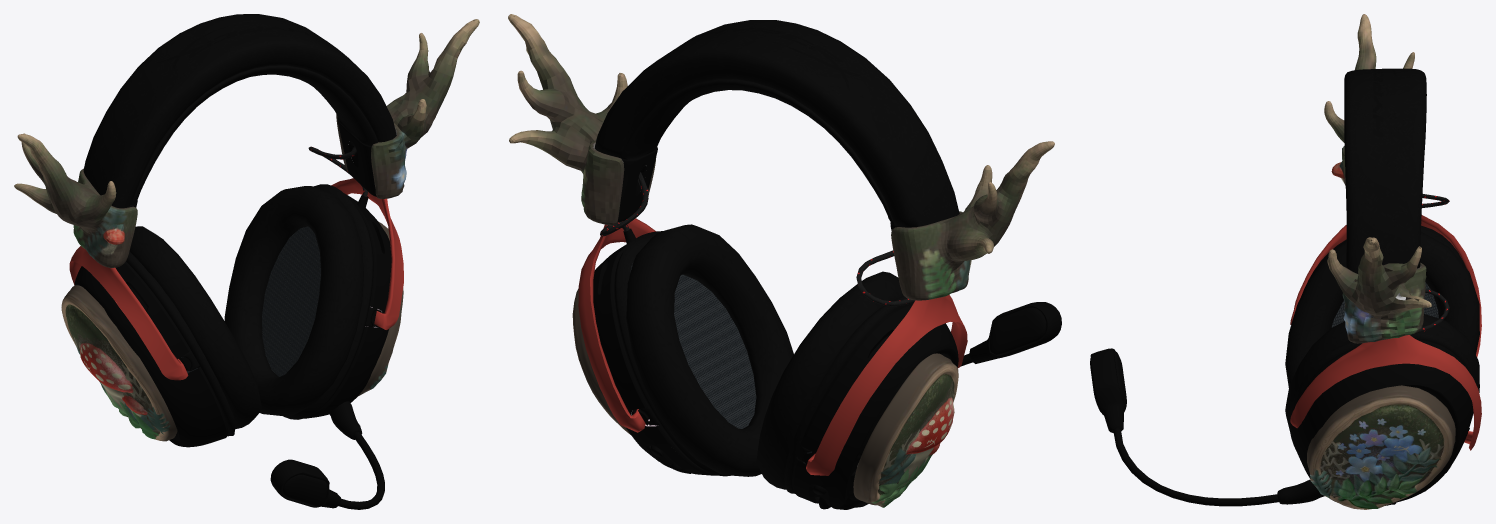
Rendered from nature.glb.
3 views of the same model, side by side, from view 1: azimuth 30°, elevation 25°; view 2: azimuth 150°, elevation 25°; view 3: azimuth 270°, elevation 25° (orthographic). The views are drawn at different scales.
Visible parts, largest first — view 1: 480 tris ring 2.001, Retopo_pre top.006, 300 tris wire holder.001, nature r 13k total, nature r, nature l.001, 150 tris earmuff screen.003, Retopo_FIXED 400 tris fork.001, 480 tris mic mesh.001, nature l, 200 tris mic.001; view 2: 480 tris ring 2.001, Retopo_pre top.006, 300 tris wire holder.001, Retopo_FIXED 400 tris fork.001, nature r, nature l.001, nature r 13k total, 150 tris earmuff screen.003, 480 tris mic mesh.001, 244 tris cable.002, nature l; view 3: Retopo_pre top.006, nature l, 480 tris ring 2.001, 300 tris wire holder.001, nature l.001, Retopo_FIXED 400 tris fork.001, 200 tris mic.001, nature r, 244 tris cable.002, 480 tris mic mesh.001, 150 tris earmuff screen.003.
Part boxes in pixels (x1,y1,x2,y2): 480 tris ring 2.001: [126, 184, 373, 436]; Retopo_pre top.006: [83, 14, 396, 208]; 300 tris wire holder.001: [74, 117, 391, 508]; nature r 13k total: [61, 285, 177, 441]; nature r: [14, 133, 137, 267]; nature l.001: [336, 19, 479, 198]; 150 tris earmuff screen.003: [181, 226, 320, 376]; Retopo_FIXED 400 tris fork.001: [69, 178, 403, 380]; 480 tris mic mesh.001: [283, 474, 327, 506]; nature l: [358, 221, 403, 396]; 200 tris mic.001: [338, 432, 384, 509]; 480 tris ring 2.001: [614, 224, 907, 493]; Retopo_pre top.006: [594, 20, 959, 227]; 300 tris wire holder.001: [593, 147, 1061, 509]; Retopo_FIXED 400 tris fork.001: [578, 218, 967, 475]; nature r: [891, 141, 1054, 300]; nature l.001: [508, 14, 656, 225]; nature r 13k total: [853, 353, 958, 507]; 150 tris earmuff screen.003: [630, 263, 811, 464]; 480 tris mic mesh.001: [990, 307, 1046, 354]; 244 tris cable.002: [600, 172, 915, 306]; nature l: [572, 288, 656, 434]; Retopo_pre top.006: [1344, 68, 1426, 273]; nature l: [1307, 385, 1455, 509]; 480 tris ring 2.001: [1285, 225, 1479, 451]; 300 tris wire holder.001: [1090, 339, 1473, 505]; nature l.001: [1327, 237, 1431, 343]; Retopo_FIXED 400 tris fork.001: [1290, 215, 1481, 450]; 200 tris mic.001: [1113, 428, 1278, 506]; nature r: [1324, 14, 1414, 185]; 244 tris cable.002: [1410, 194, 1449, 335]; 480 tris mic mesh.001: [1090, 351, 1126, 412]; 150 tris earmuff screen.003: [1331, 282, 1438, 327].
Size of the model in its own units: 0.242 by 0.1976 by 0.1768.
Materials: 19 (19 with a texture image).
